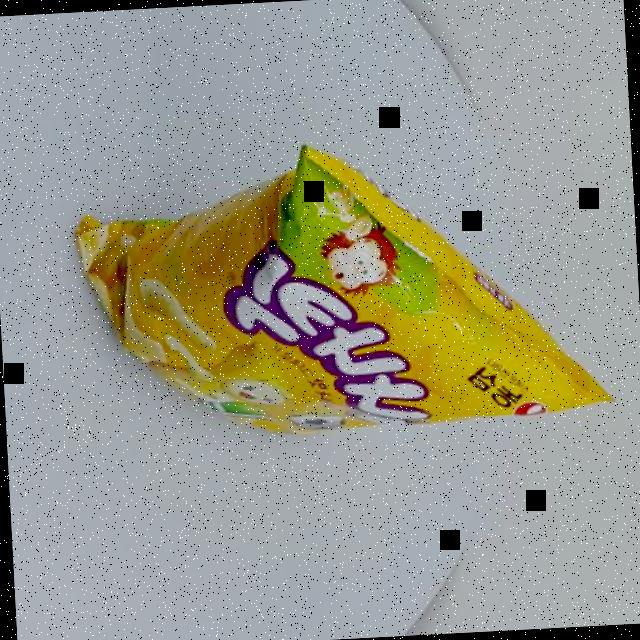snack_bag: (50, 122, 623, 460)
